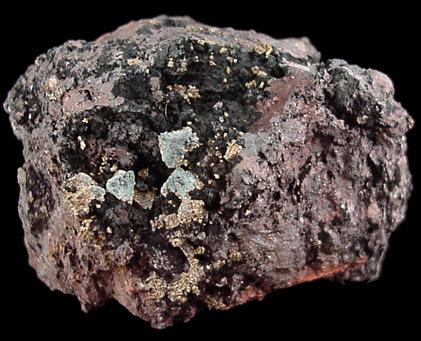copper: (5, 17, 414, 328)
